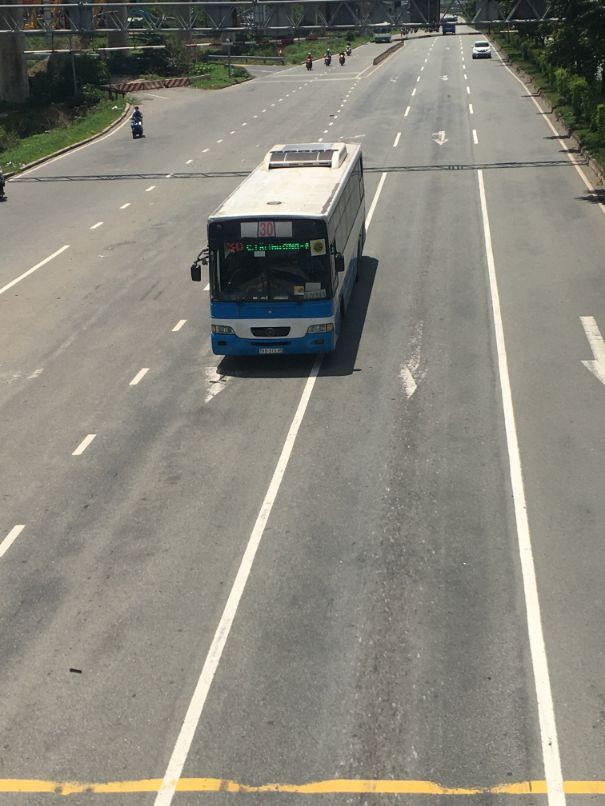bus: (206, 140, 373, 365)
car: (474, 38, 492, 58)
motorbike: (130, 108, 143, 138)
